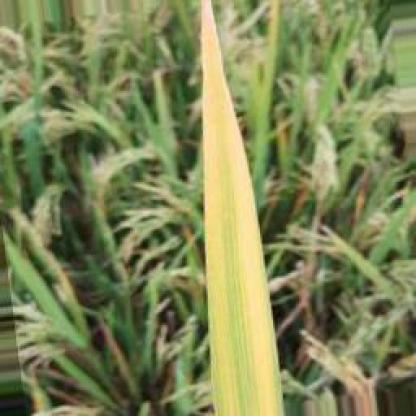Tungro: (197, 3, 287, 416)
